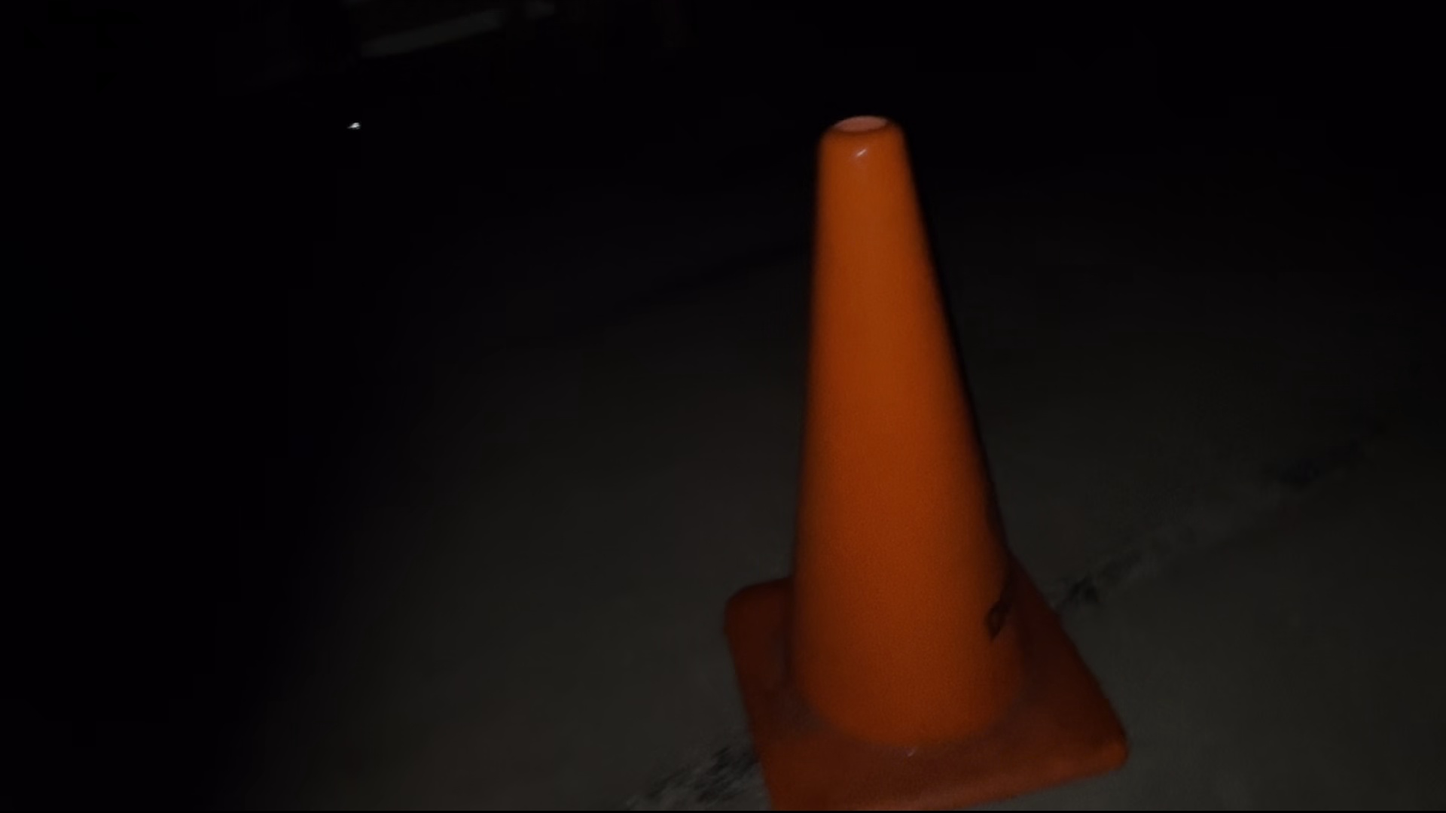traffic_cone: (722, 113, 1131, 810)
